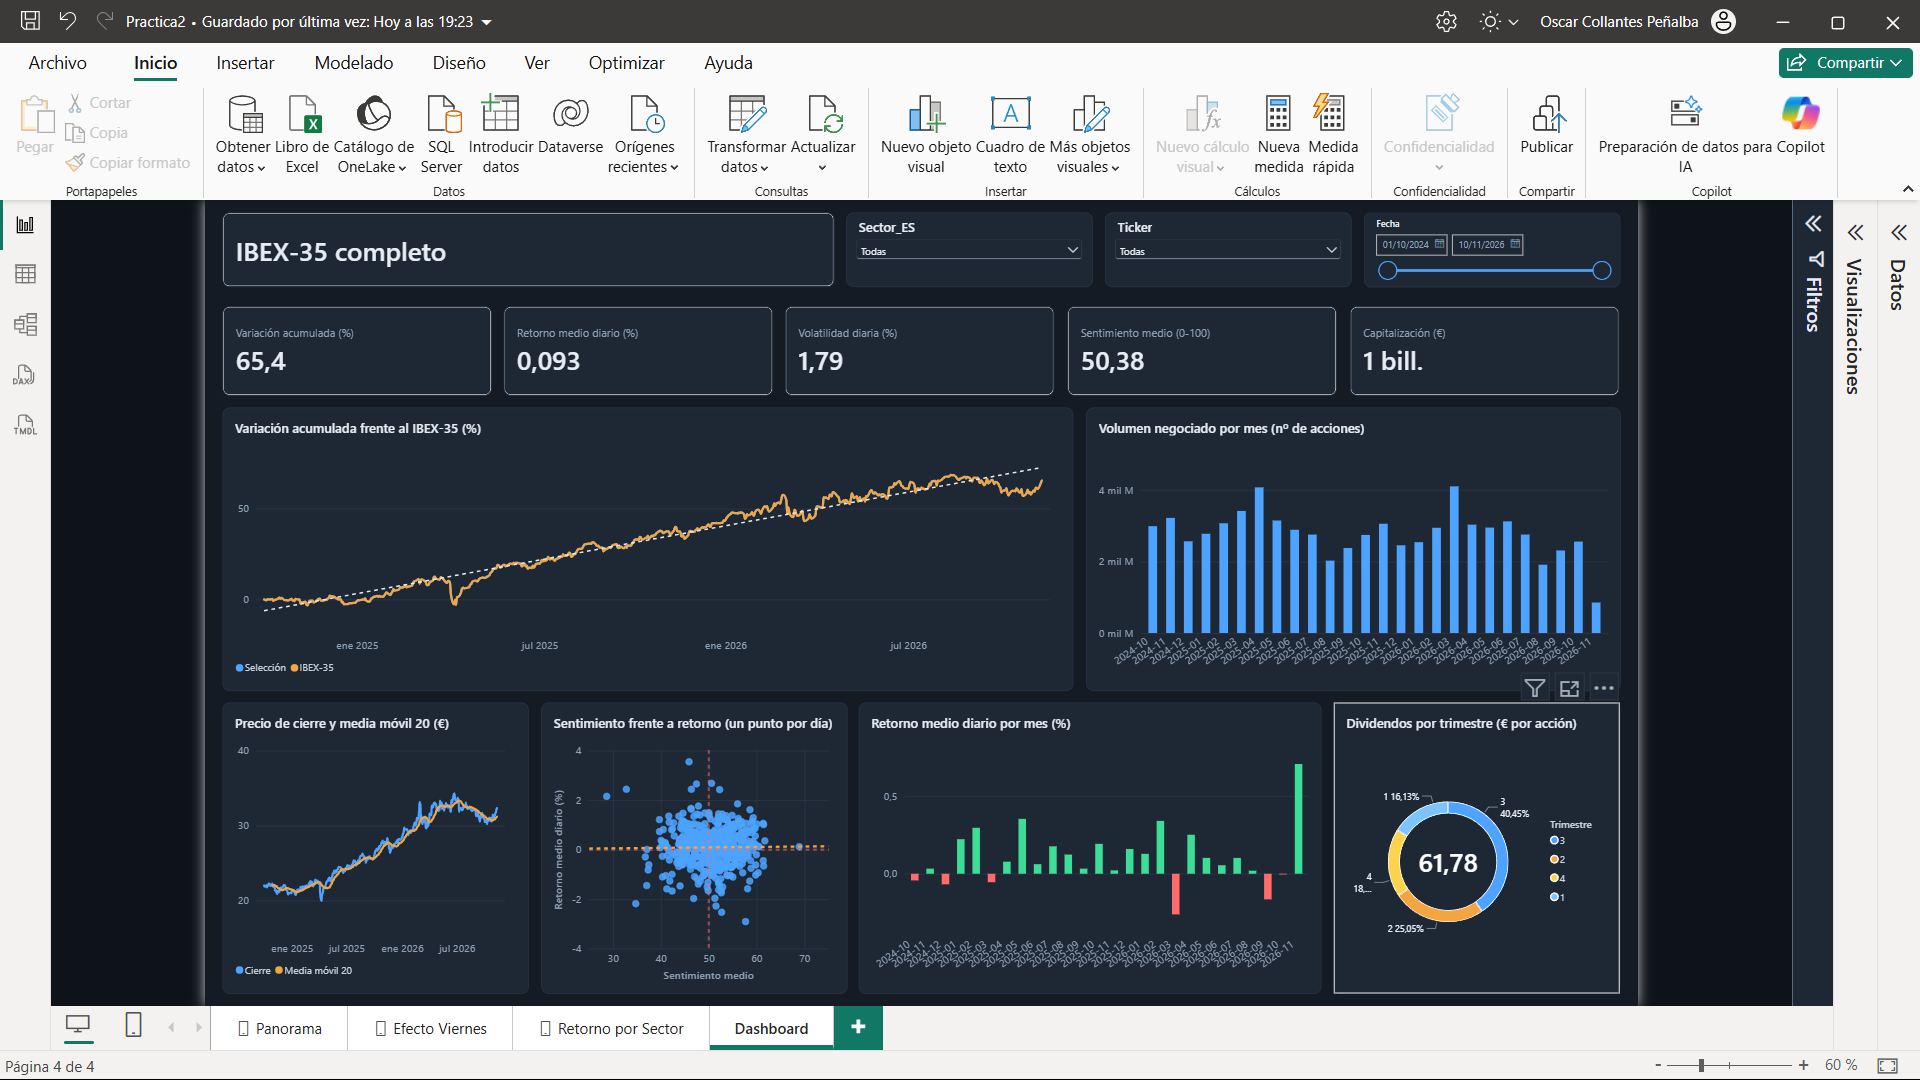

This screenshot's page, from the dashboard's own definition file:
{"tool":"powerbi","page":{"name":"Dashboard","canvas":[1920,1080],"ordinal":3},"visuals":[{"type":"slicer","fields":{"Values":["Empresa.Sector_ES"]},"box":[753.5,31.4,280.8,68],"z":0},{"type":"slicer","fields":{"Values":["Empresa.Ticker"]},"box":[1055.2,26.2,280.8,80.2],"z":1000},{"type":"slicer","fields":{"Values":["Fecha.Fecha"]},"box":[1360.5,19.2,280.8,95.9],"z":2000},{"type":"cardVisual","fields":{"Data":["Hechos.Variacion Acumulada"]},"box":[36.6,115.1,218,174.4],"z":3000},{"type":"cardVisual","fields":{"Data":["Hechos.Retorno Medio Diario"]},"box":[375,115.1,218,174.4],"z":4000},{"type":"cardVisual","fields":{"Data":["Hechos.Volatilidad Diaria"]},"box":[741.3,115.1,218,174.4],"z":5000},{"type":"cardVisual","fields":{"Data":["Hechos.Sentimiento Medio"]},"box":[1088.4,115.1,218,174.4],"z":6000},{"type":"cardVisual","fields":{"Data":["Hechos.Capitalizacion Total"]},"box":[1447.7,115.1,218,174.4],"z":7000},{"type":"lineChart","fields":{"Category":["Fecha.Fecha"],"Y":["Hechos.Var Acum Seleccion","Hechos.Var Acum IBEX"]},"box":[43.6,314,1058.7,376.7],"z":8000},{"type":"clusteredColumnChart","fields":{"Category":["Fecha.AnioMes"],"Y":["Sum(Hechos.Volume)"]},"box":[1133.7,314,736,376.7],"z":9000},{"type":"lineChart","fields":{"Category":["Fecha.Fecha"],"Y":["Avg(Hechos.Close)","Avg(Hechos.Media_Movil_20)"]},"box":[66.3,711.6,395.9,322.7],"z":10000},{"type":"scatterChart","fields":{"Category":["Fecha.Fecha"],"X":["Hechos.Sentimiento Medio"],"Y":["Hechos.Retorno Medio Diario"]},"box":[462.2,711.6,444.8,322.7],"z":11000},{"type":"clusteredColumnChart","fields":{"Category":["Fecha.AnioMes"],"Y":["Hechos.Retorno Medio Diario"]},"box":[907,711.6,610.5,322.7],"z":12000},{"type":"donutChart","fields":{"Category":["Fecha.Trimestre"],"Y":["Sum(Hechos.Dividends)"]},"box":[1517.4,711.6,385.5,322.7],"z":13000},{"type":"cardVisual","fields":{"Data":["Hechos.Titulo Dashboard"]},"box":[66.3,19.2,556.4,75],"z":13001}]}

Visuals, with their boxes on the page's 1920x1080 design canvas (x1, y1, x2, y2). These are canvas units, not pixel positions in the 1920x1080 screenshot, which may show the page scaled, cropped or inside an application window:
slicer - Empresa.Sector_ES: bbox=[754, 31, 1034, 99]
slicer - Empresa.Ticker: bbox=[1055, 26, 1336, 106]
slicer - Fecha.Fecha: bbox=[1360, 19, 1641, 115]
cardVisual - Hechos.Variacion Acumulada: bbox=[37, 115, 255, 290]
cardVisual - Hechos.Retorno Medio Diario: bbox=[375, 115, 593, 290]
cardVisual - Hechos.Volatilidad Diaria: bbox=[741, 115, 959, 290]
cardVisual - Hechos.Sentimiento Medio: bbox=[1088, 115, 1306, 290]
cardVisual - Hechos.Capitalizacion Total: bbox=[1448, 115, 1666, 290]
lineChart - Fecha.Fecha x Hechos.Var Acum Seleccion: bbox=[44, 314, 1102, 691]
clusteredColumnChart - Fecha.AnioMes x Sum(Hechos.Volume): bbox=[1134, 314, 1870, 691]
lineChart - Fecha.Fecha x Avg(Hechos.Close): bbox=[66, 712, 462, 1034]
scatterChart - Fecha.Fecha x Hechos.Sentimiento Medio: bbox=[462, 712, 907, 1034]
clusteredColumnChart - Fecha.AnioMes x Hechos.Retorno Medio Diario: bbox=[907, 712, 1518, 1034]
donutChart - Fecha.Trimestre x Sum(Hechos.Dividends): bbox=[1517, 712, 1903, 1034]
cardVisual - Hechos.Titulo Dashboard: bbox=[66, 19, 623, 94]
